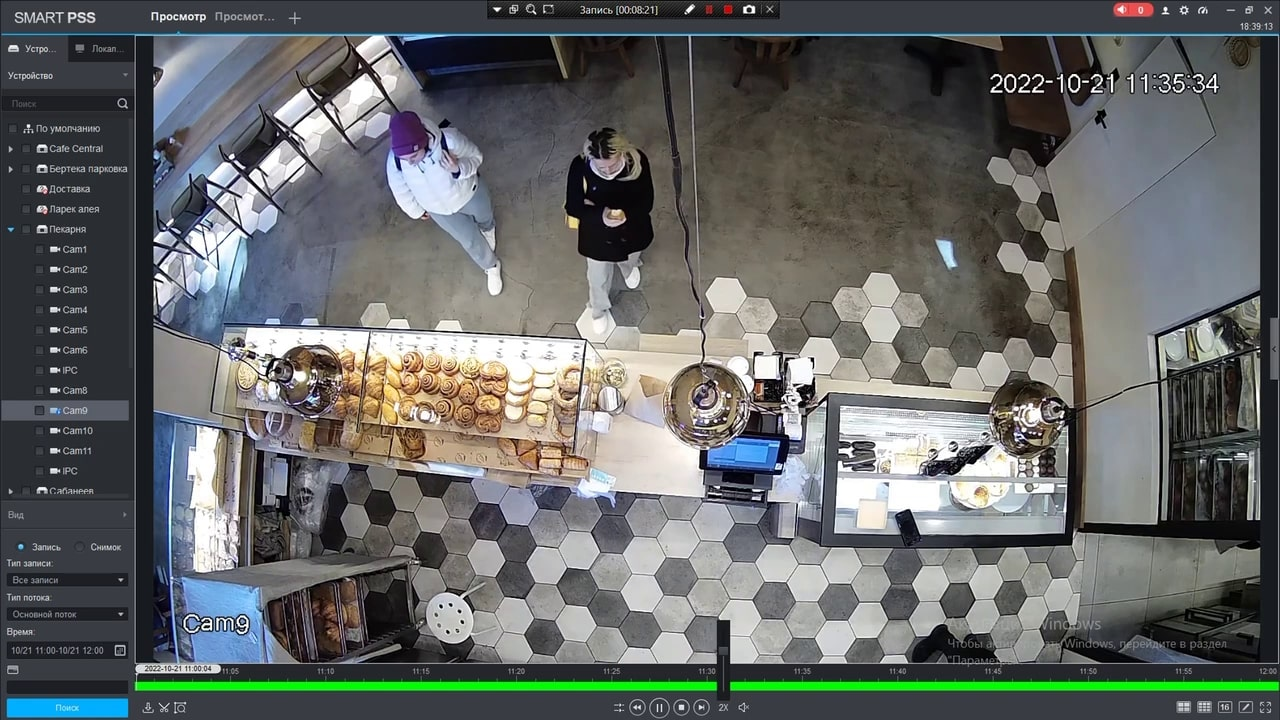barcounter: (225, 325, 1080, 549)
person: (378, 109, 517, 295), (556, 136, 659, 327)
